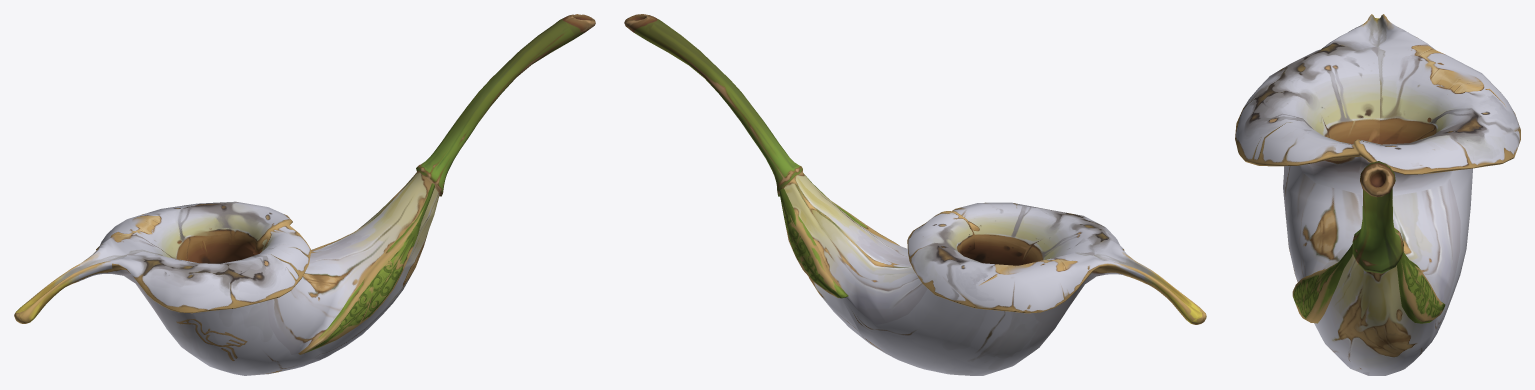
File: FledsPipe.glb
3 renders of one model, left to right at view 1: azimuth 30°, elevation 25°; view 2: azimuth 150°, elevation 25°; view 3: azimuth 270°, elevation 25°, orthographic. The views are drawn at different scales.
Visible parts, largest first — view 1: Plane; view 2: Plane; view 3: Plane.
Part boxes in pixels (x1,y1,x2,y2): Plane: (14,14,595,375); Plane: (624,14,1206,375); Plane: (1235,14,1520,375).
Bounding box in the file's own units: 8.06 × 3.71 × 2.54.
1 material, 1 textured.
